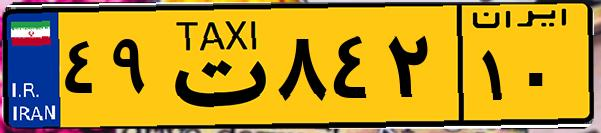0: (525, 38, 570, 115)
1: (475, 38, 525, 113)
2: (385, 28, 445, 110)
4: (330, 28, 385, 110), (57, 26, 110, 100)
8: (270, 28, 330, 110)
9: (110, 28, 158, 98)
ت: (158, 12, 270, 120)
